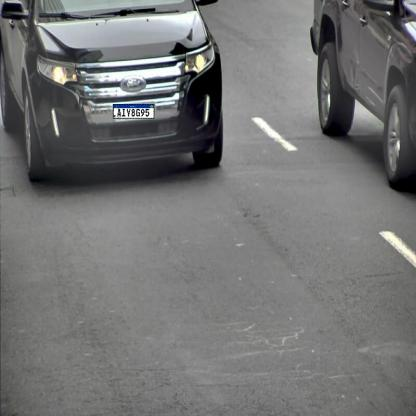PlacaM: (113, 104, 154, 119)
